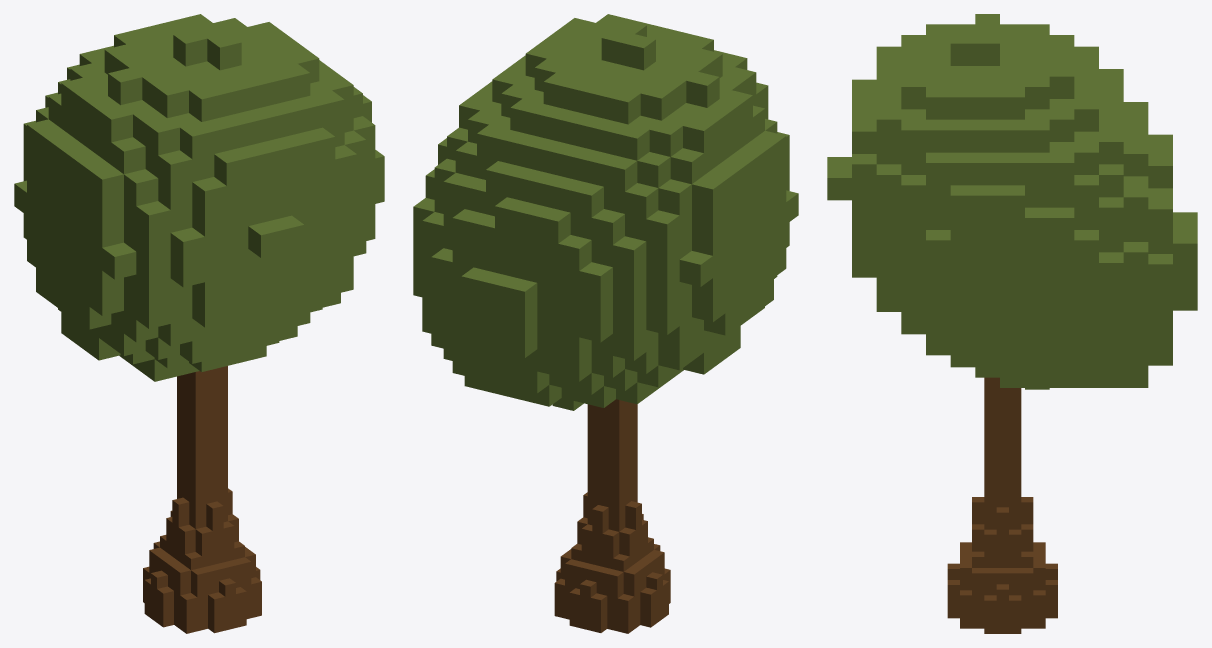
The model's file is Tree-normal.fbx.
The picture shows the model from 3 angles, left to right: view 1: azimuth 30°, elevation 25°; view 2: azimuth 150°, elevation 25°; view 3: azimuth 270°, elevation 25°; orthographic projection. The views are drawn at different scales.
Parts seen in each view (by area): view 1: Cube.004; view 2: Cube.004; view 3: Cube.004.
Boxes of the visible parts, left/top/right/bottom form: Cube.004: left=14, top=14, right=384, bottom=633; Cube.004: left=413, top=14, right=798, bottom=633; Cube.004: left=827, top=14, right=1197, bottom=633.
Bounding box in the file's own units: 594 × 1172 × 686.
